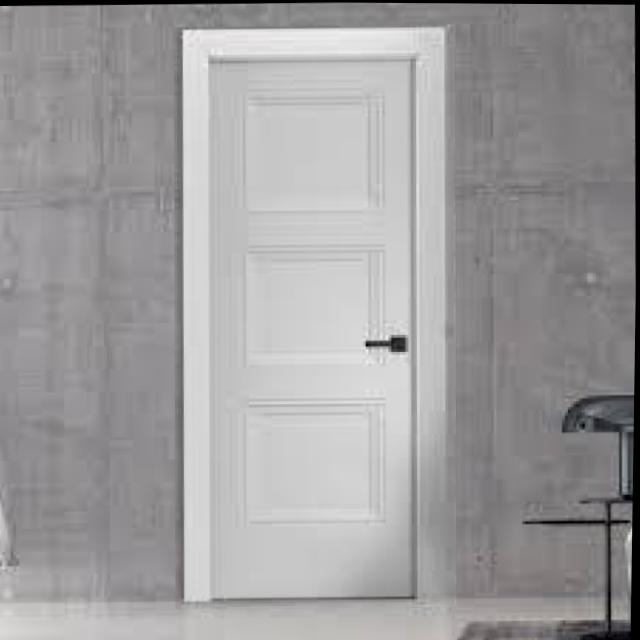close: (167, 22, 466, 611)
